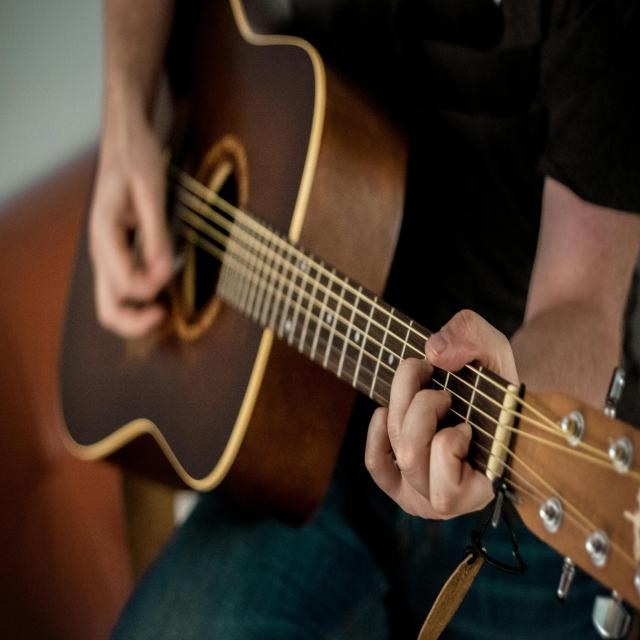guitar: (58, 0, 640, 638)
